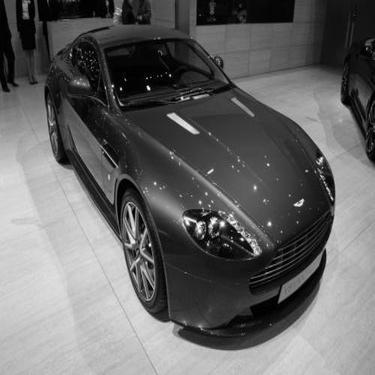car: (40, 20, 343, 344), (331, 27, 372, 169)
